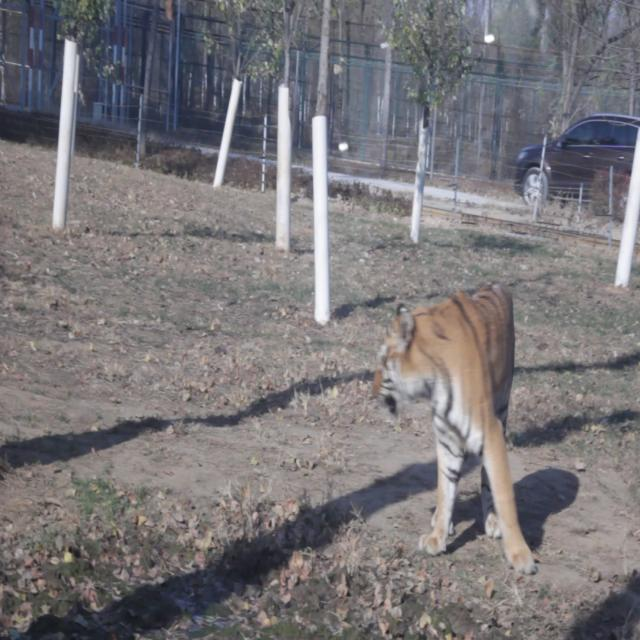Tiger: (349, 235, 546, 580)
